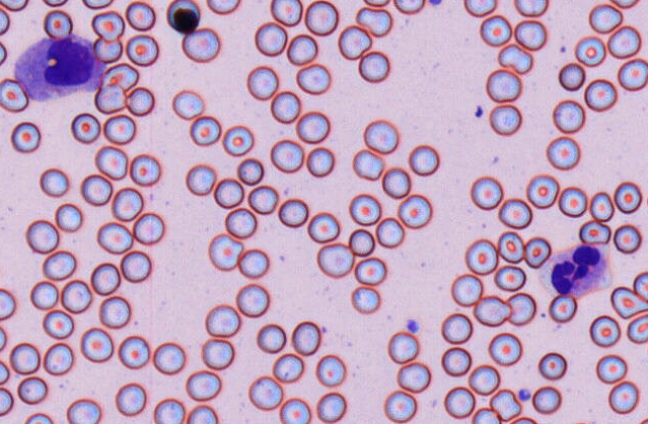GRAN: (535, 244, 615, 299)
MONO: (12, 34, 101, 99)
PLT: (406, 319, 420, 334), (518, 388, 534, 400), (427, 0, 443, 7)
RBC: (181, 27, 220, 62), (316, 242, 354, 277), (208, 233, 242, 270), (464, 238, 498, 275), (248, 375, 283, 410), (397, 193, 432, 228), (363, 119, 398, 154), (485, 68, 521, 102), (304, 0, 338, 35), (205, 303, 240, 337), (546, 135, 580, 170), (166, 0, 200, 34), (25, 219, 59, 253), (270, 139, 304, 173), (488, 332, 522, 366), (235, 283, 269, 317), (254, 21, 287, 56), (80, 327, 113, 362), (97, 221, 132, 254), (94, 145, 127, 180), (185, 369, 221, 401), (473, 295, 510, 326), (470, 175, 503, 209), (607, 25, 641, 58), (296, 110, 330, 143), (526, 174, 559, 208), (552, 99, 585, 133), (246, 65, 278, 100), (152, 341, 185, 374), (450, 273, 483, 306), (383, 389, 416, 422), (584, 78, 617, 111), (60, 279, 92, 313), (498, 197, 532, 229), (111, 187, 143, 221), (201, 337, 234, 369), (307, 211, 340, 243), (348, 193, 381, 225), (132, 211, 164, 244), (125, 34, 158, 66), (115, 382, 146, 416), (396, 361, 430, 392), (608, 380, 639, 414), (296, 63, 330, 94), (118, 335, 149, 369), (80, 173, 112, 205), (443, 386, 475, 418), (479, 14, 511, 46), (286, 33, 318, 65), (489, 103, 521, 135), (99, 295, 130, 328), (589, 314, 620, 347), (91, 10, 124, 41), (129, 153, 160, 186), (588, 3, 622, 33), (42, 250, 76, 280), (291, 320, 320, 355), (468, 364, 500, 395), (224, 207, 256, 238), (9, 342, 40, 374), (441, 312, 472, 344), (352, 148, 383, 180), (315, 354, 346, 386), (185, 163, 216, 195), (514, 19, 546, 50), (120, 250, 151, 282), (358, 50, 389, 82), (387, 331, 418, 363), (103, 113, 135, 144), (574, 35, 606, 66), (222, 124, 253, 156), (43, 342, 73, 375), (506, 292, 536, 325), (90, 262, 120, 295), (171, 89, 204, 119), (270, 90, 300, 123), (617, 58, 647, 91), (213, 177, 244, 208), (408, 144, 439, 175), (272, 352, 304, 382), (237, 248, 269, 278), (189, 115, 221, 145), (0, 78, 28, 112), (42, 309, 73, 339), (70, 112, 100, 143), (10, 121, 40, 152), (316, 391, 346, 422), (247, 184, 278, 214), (375, 216, 404, 248), (595, 354, 627, 383), (381, 166, 410, 198), (354, 256, 386, 285), (613, 181, 642, 213), (441, 346, 471, 376), (256, 323, 286, 353), (125, 0, 155, 30), (558, 186, 587, 217), (523, 236, 551, 268), (497, 230, 524, 263), (66, 398, 101, 423), (39, 167, 68, 197), (531, 385, 561, 414), (43, 9, 72, 39), (125, 86, 154, 116), (278, 198, 308, 227), (613, 223, 642, 253), (306, 146, 334, 177), (494, 264, 526, 291), (548, 294, 577, 323), (538, 351, 567, 380), (17, 376, 47, 404), (279, 397, 311, 423), (270, 0, 302, 26), (30, 280, 58, 309), (351, 285, 380, 313), (92, 36, 122, 63), (153, 398, 185, 423), (579, 219, 611, 244), (55, 202, 82, 231), (558, 62, 585, 91), (589, 191, 614, 222), (348, 228, 375, 256), (237, 157, 264, 185), (626, 314, 647, 344), (186, 404, 218, 423), (514, 0, 548, 17), (463, 0, 496, 17), (206, 0, 240, 14), (0, 288, 15, 319), (471, 407, 500, 423), (633, 271, 647, 302), (393, 0, 424, 14), (0, 386, 13, 416), (0, 0, 28, 11), (24, 412, 52, 423), (82, 0, 113, 9), (609, 0, 640, 8), (0, 8, 9, 35), (0, 359, 9, 384), (508, 416, 537, 423), (42, 0, 68, 7), (363, 0, 389, 7), (0, 40, 7, 65), (0, 326, 6, 351), (569, 421, 596, 424), (638, 417, 647, 423)
Schistocyte: (607, 284, 648, 320), (336, 24, 372, 61), (354, 7, 395, 39), (100, 61, 141, 91), (496, 43, 533, 75), (490, 389, 522, 420), (95, 84, 127, 110)
